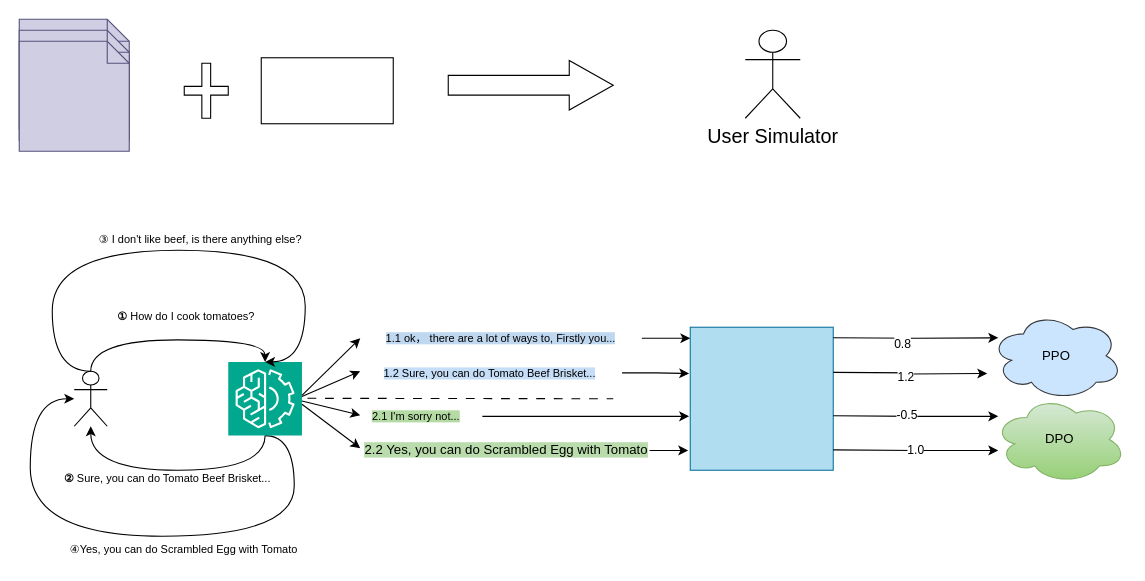
This 1145x581 diagram has some shape labels left out. Each missing label, with the centre of its shape:
LLM: the point at 326,90
Reward model: the point at 761,398
